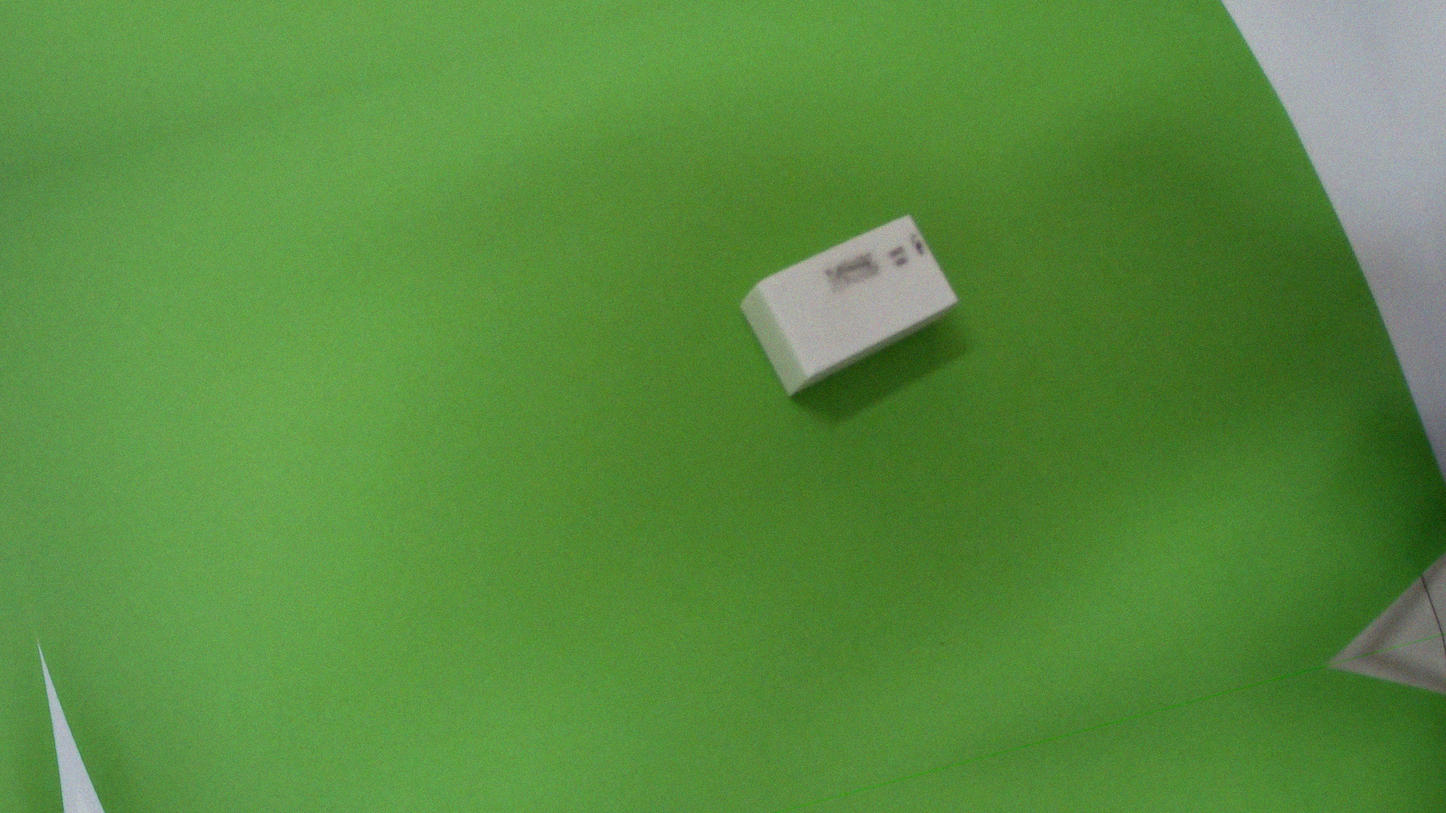gom: (728, 200, 970, 409)
